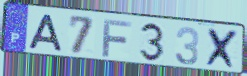3: (137, 21, 167, 64), (175, 26, 201, 66)
7: (67, 14, 97, 56)
A: (27, 13, 64, 53)
F: (101, 18, 134, 59)
X: (204, 27, 241, 71)
